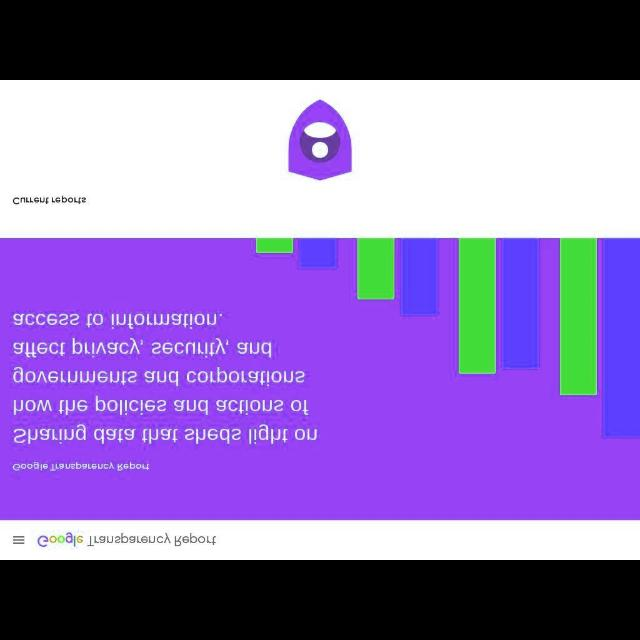backgroundimage: (1, 238, 640, 520)
icon: (12, 535, 26, 545)
image: (288, 99, 352, 181), (36, 532, 84, 548)
text: (12, 312, 318, 443), (86, 534, 218, 546), (12, 461, 150, 471), (12, 197, 86, 206)
